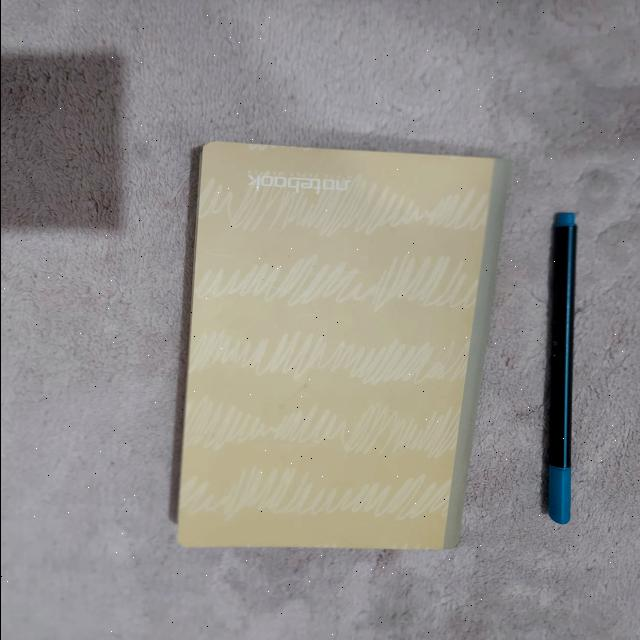defter: (174, 141, 512, 548)
kalem1: (548, 212, 577, 526)
